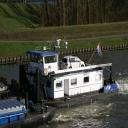tugboat: (15, 39, 121, 112)
